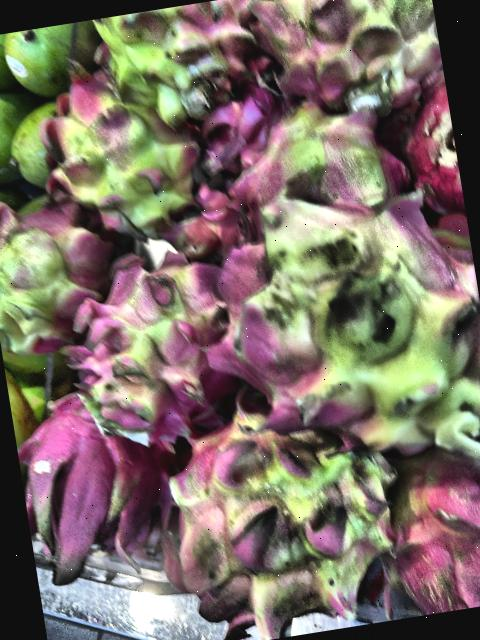buah-naga-belum-matang: (203, 150, 480, 480), (162, 394, 410, 636), (67, 236, 246, 447), (32, 67, 206, 249), (238, 0, 448, 130), (233, 94, 410, 232), (90, 0, 264, 131), (0, 183, 120, 362)
buah-naga-matang: (13, 378, 198, 598), (376, 430, 480, 618), (402, 82, 463, 202)
